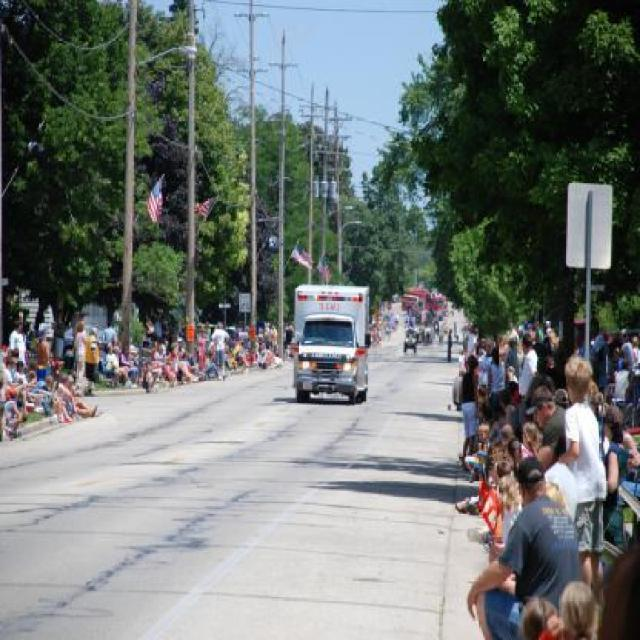emergency: (289, 282, 371, 404)
